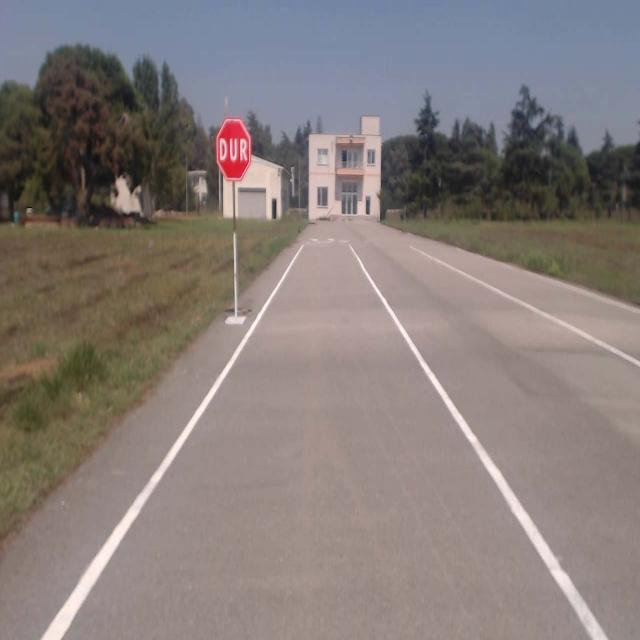dur: (216, 118, 250, 180)
